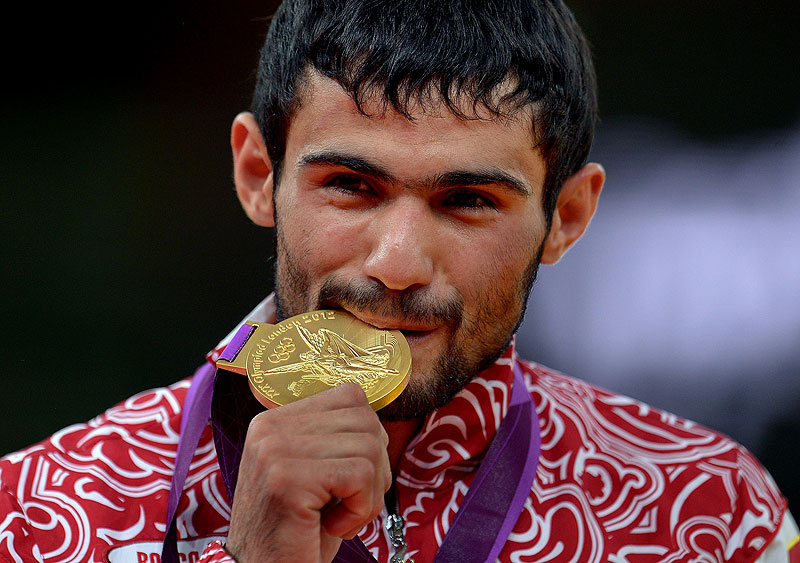face: (271, 73, 544, 418)
